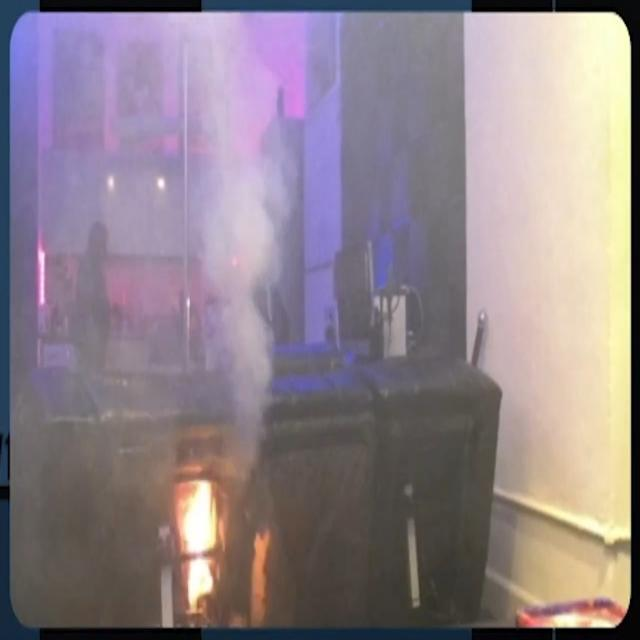Fire: (182, 487, 220, 594)
Smoke: (195, 32, 288, 446)
